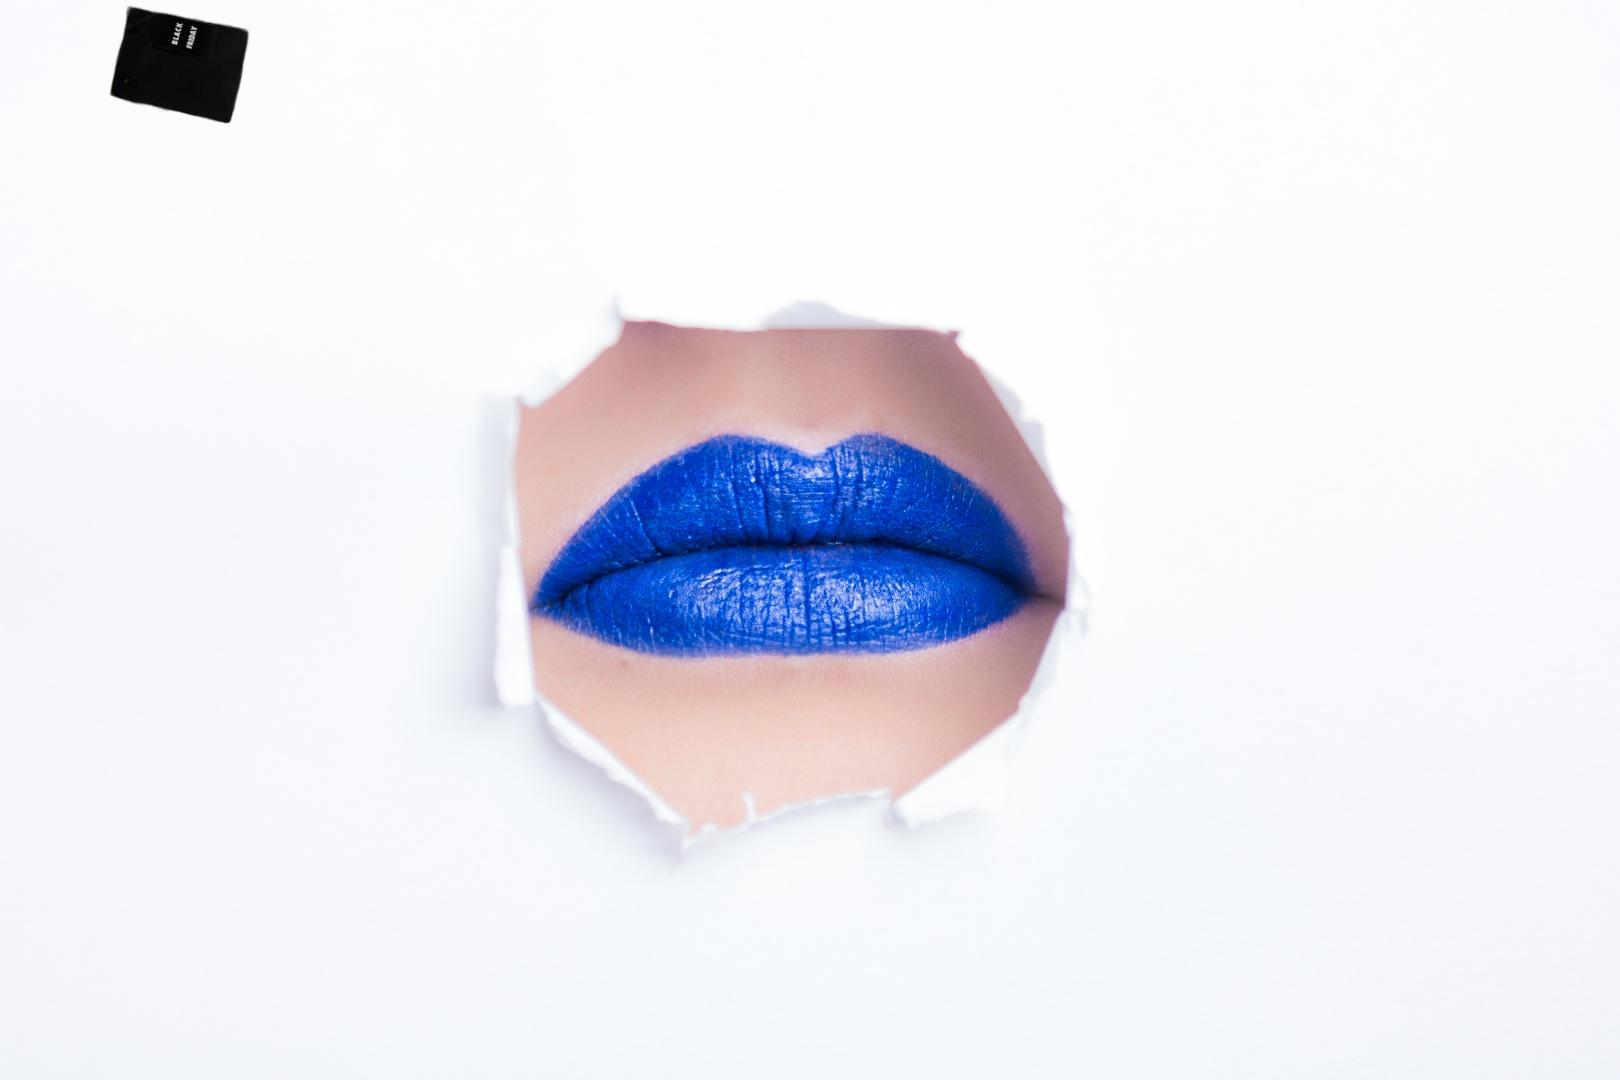paper-bag: (108, 4, 251, 127)
